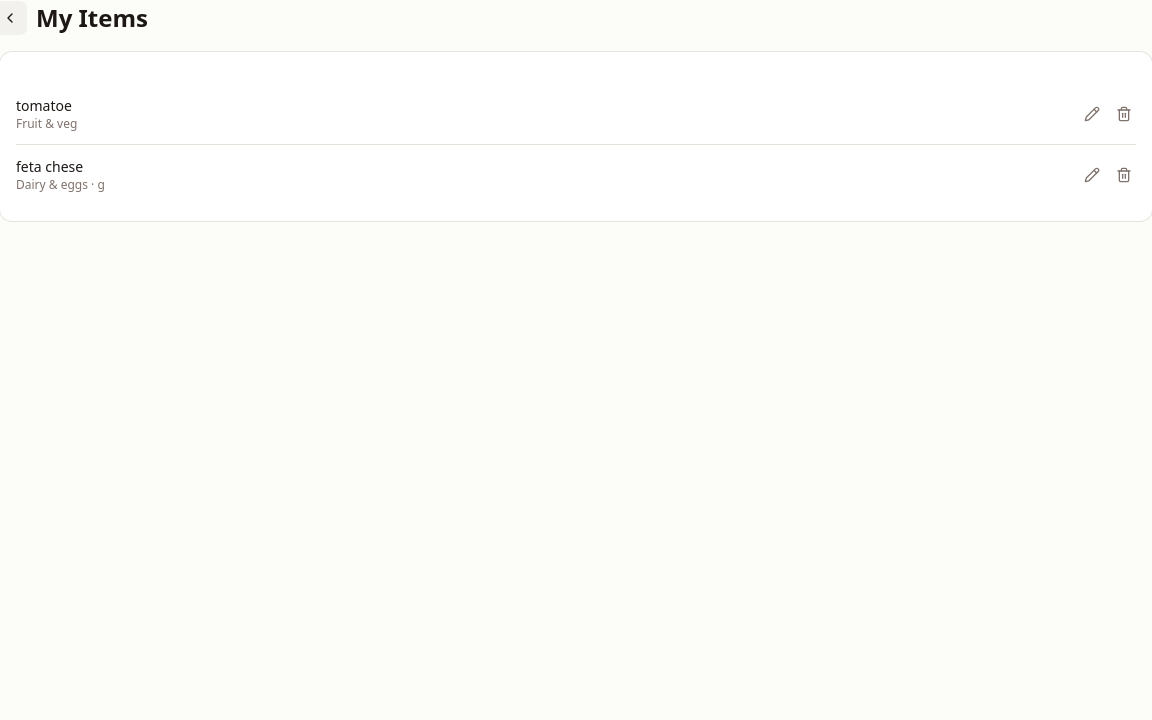
Test case: ProductsPage — edit product › opens edit sheet when pencil button is clicked
Expected: the text "tomatoe" is shown, [16,96,72,115]
Click the button named "Edit tomatoe": [1092, 114] box [1074,96,1110,132]
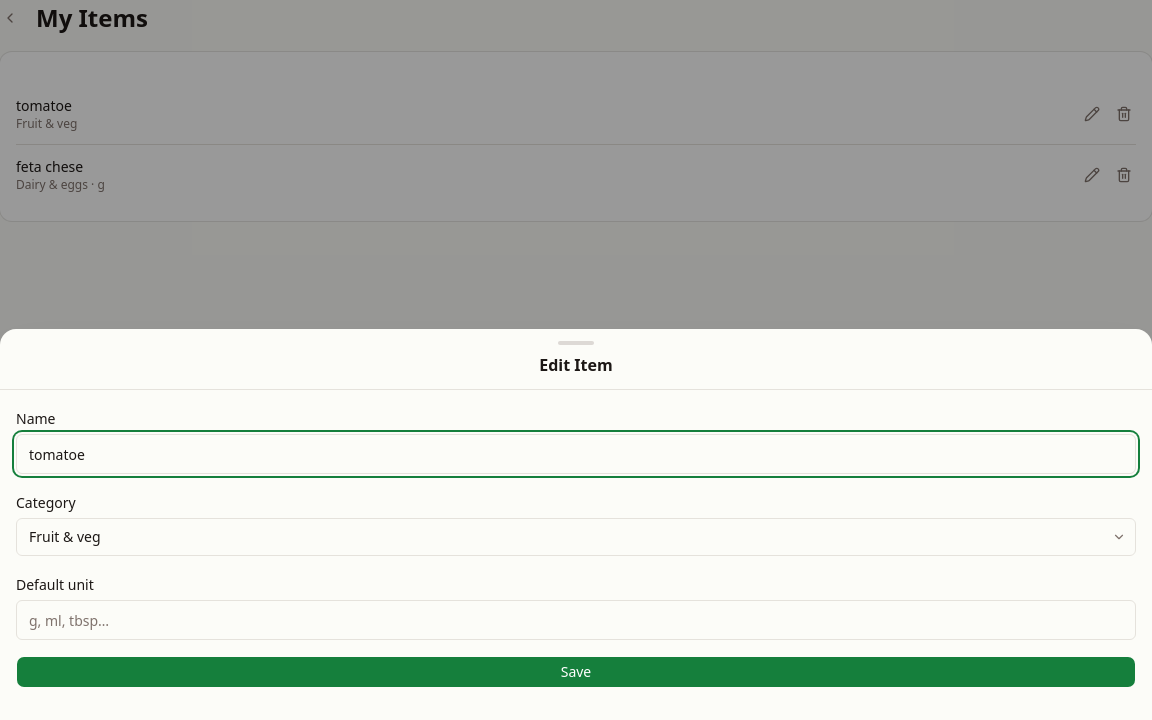
Expected: the field showing "tomatoe" is shown, [16,434,1136,474]
